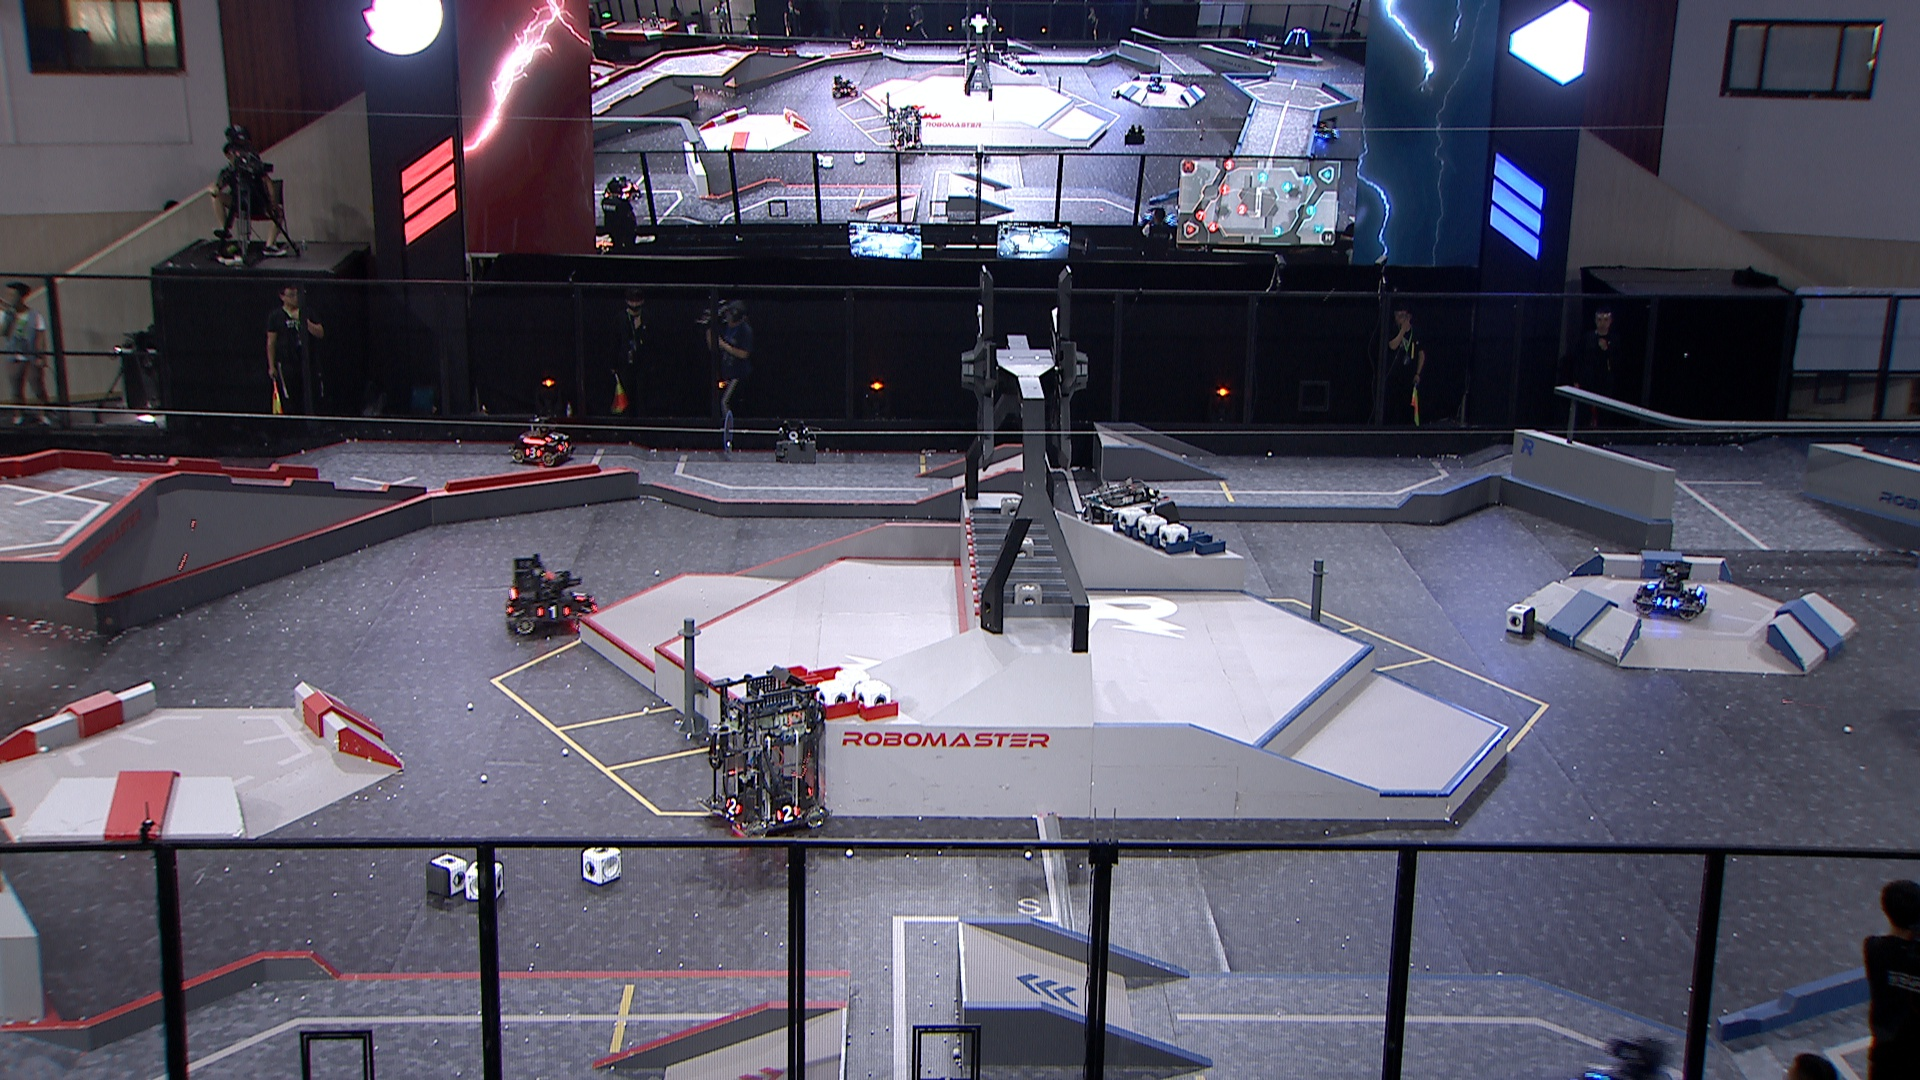armor: (535, 604, 570, 618), (774, 804, 803, 822), (723, 798, 745, 816), (522, 444, 542, 460), (1655, 597, 1680, 609), (580, 603, 597, 617), (570, 585, 585, 600), (1643, 579, 1662, 591), (556, 440, 570, 451), (546, 433, 560, 440)
car: (700, 666, 831, 839), (1076, 479, 1187, 578), (500, 553, 604, 640), (1633, 556, 1708, 628), (510, 410, 576, 469)
ignore: (605, 171, 641, 204), (828, 73, 864, 105), (1280, 26, 1313, 57), (1313, 113, 1340, 145), (1145, 73, 1166, 96), (1242, 36, 1263, 54), (849, 34, 865, 54)
